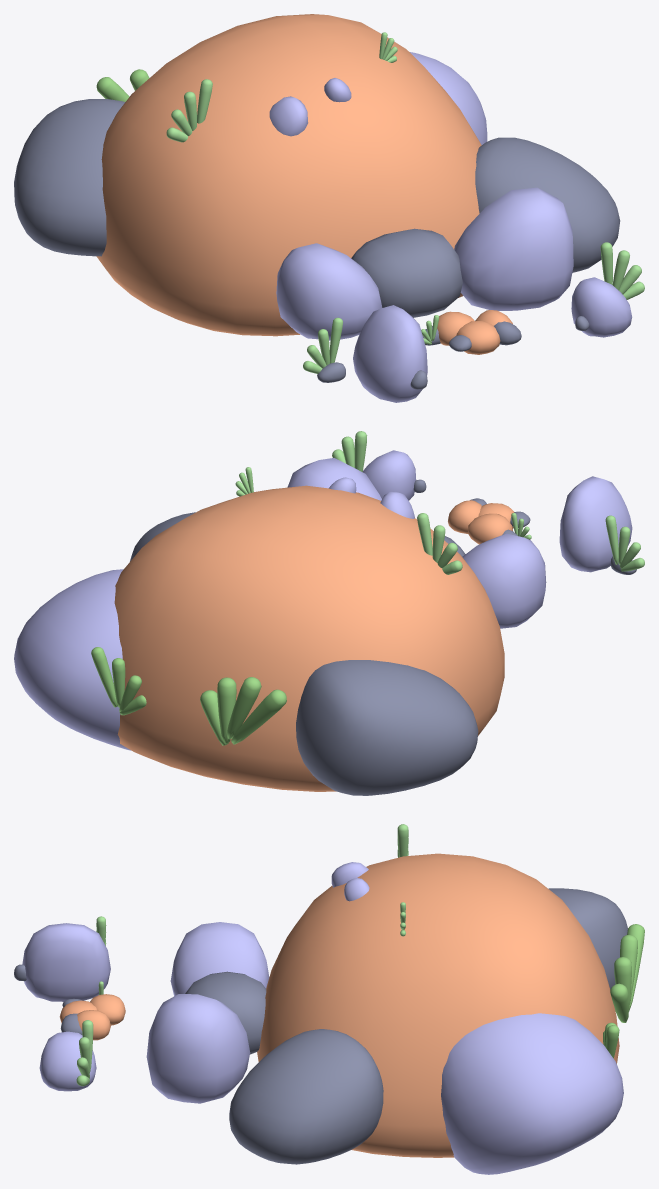
Rendered from textureRocks.gltf.
The picture shows the model from 3 angles, top to bottom: view 1: azimuth 30°, elevation 25°; view 2: azimuth 150°, elevation 25°; view 3: azimuth 270°, elevation 25°; orthographic projection. The views are drawn at different scales.
Visible parts, largest first — view 1: Sand (×2), Rock (×10); view 2: Sand (×3), Rock (×8), Cube 14 (×2), Cube 12 (×2), Cube 13; view 3: Rock (×9), Sand (×3), Cube 12 (×2), Cube 13, Cube 14.
Boxes of the visible parts, x1,y1,x2,y2 form: Sand (×2): (96,14,481,345); Rock (×10): (14,52,632,402); Sand (×3): (114,485,512,791); Rock (×8): (14,450,632,795); Cube 14 (×2): (91,647,286,744); Cube 12 (×2): (200,677,236,745); Cube 13: (227,677,261,739); Rock (×9): (22,862,627,1174); Sand (×3): (77,853,619,1157); Cube 12 (×2): (610,957,631,1022); Cube 13: (620,935,637,1003); Cube 14: (627,924,644,1011).
Bounding box in the file's own units: 14.01 × 7.22 × 17.67.
